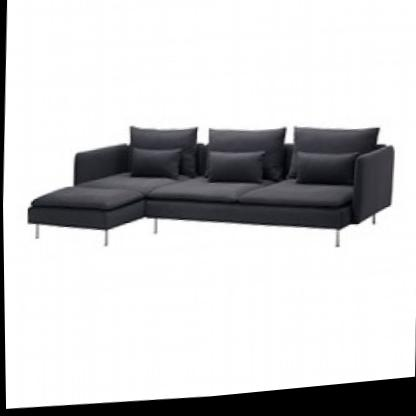Sofa: (15, 83, 403, 300)
